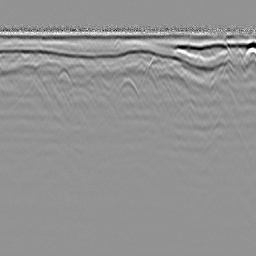cavity: (114, 74, 143, 110)
